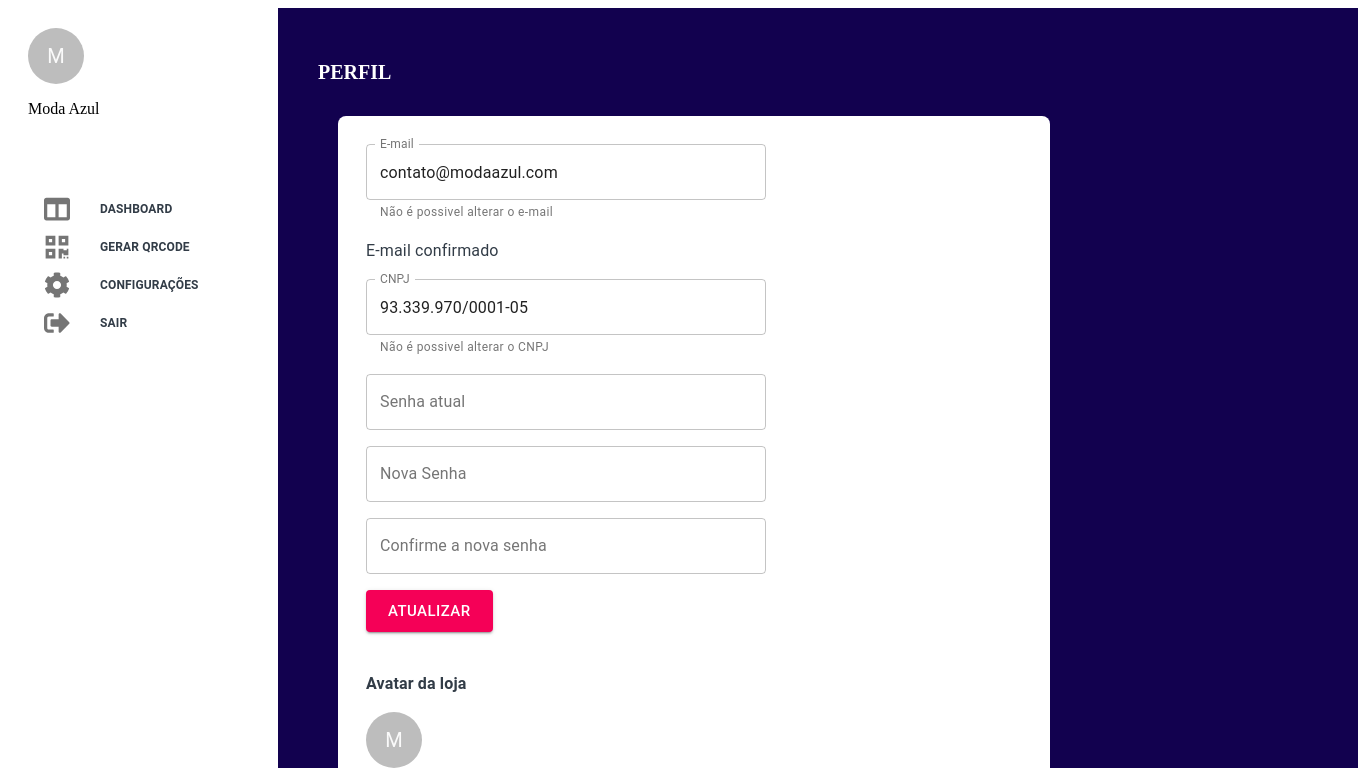
Test: Configurações do estabelecimento › senha atual errada (422): mostra a mensagem e NÃO expira a sessão
Type "errada-errada" into the password field labelled "Senha atual".
click(566, 402); type("errada-errada")  # box [366,374,766,430]
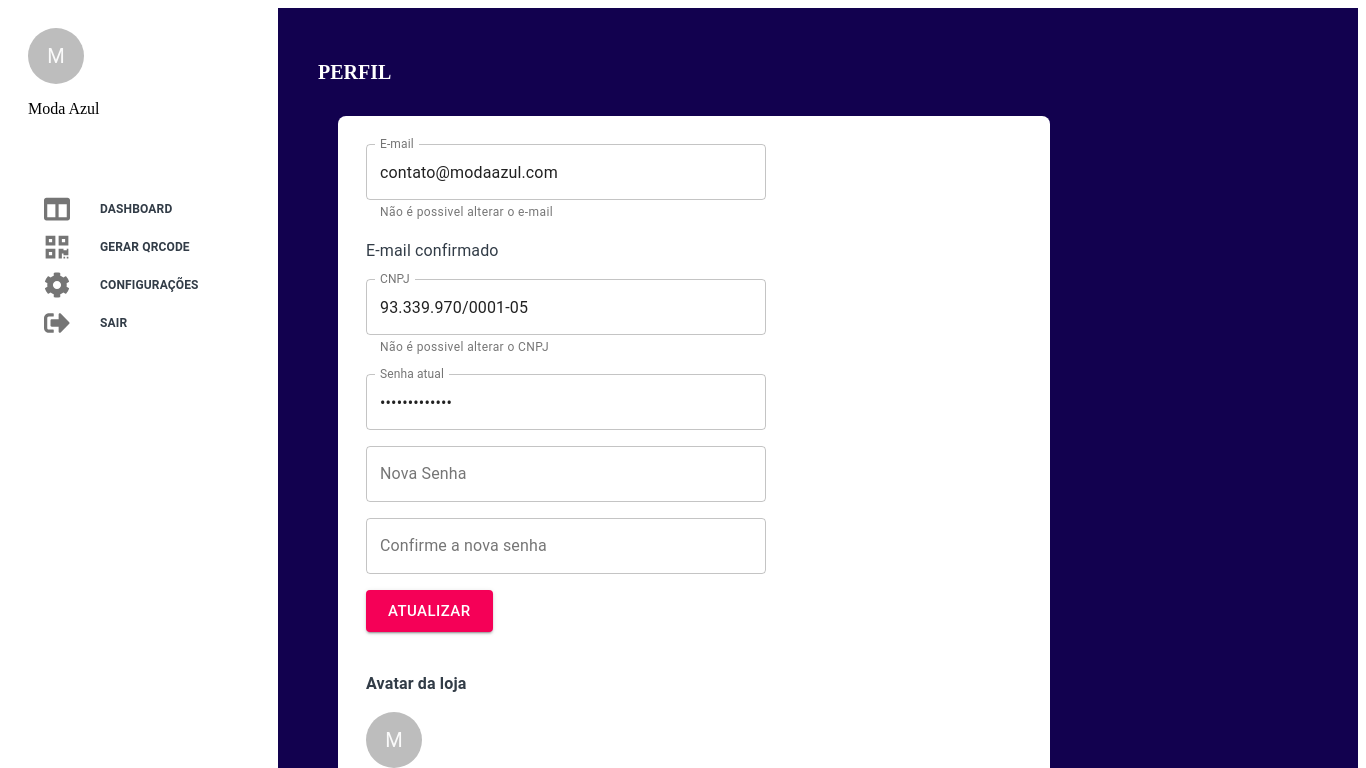
Type "senha-nova-22" into the password field labelled "Nova Senha".
click(566, 474); type("senha-nova-22")  # box [366,446,766,502]
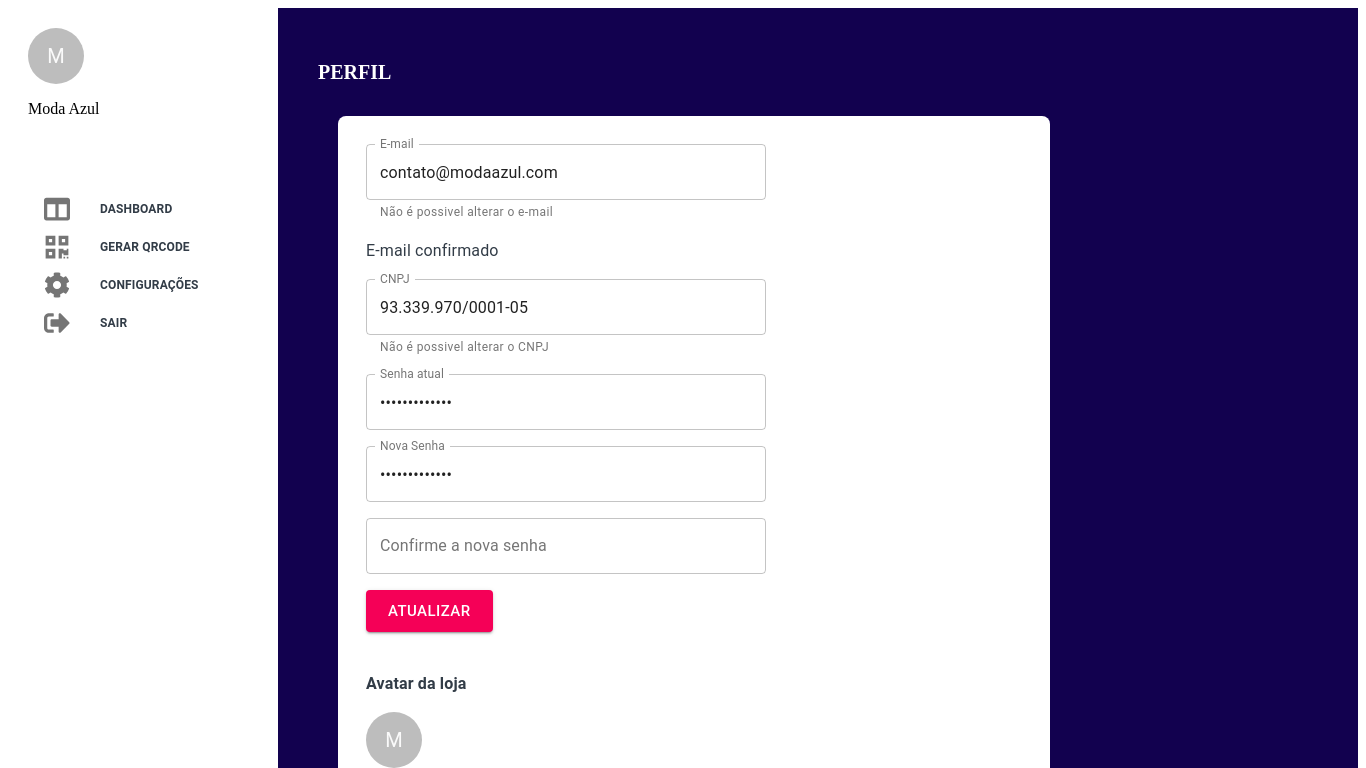
Type "senha-nova-22" into the password field labelled "Confirme a nova senha".
click(566, 546); type("senha-nova-22")  # box [366,518,766,574]
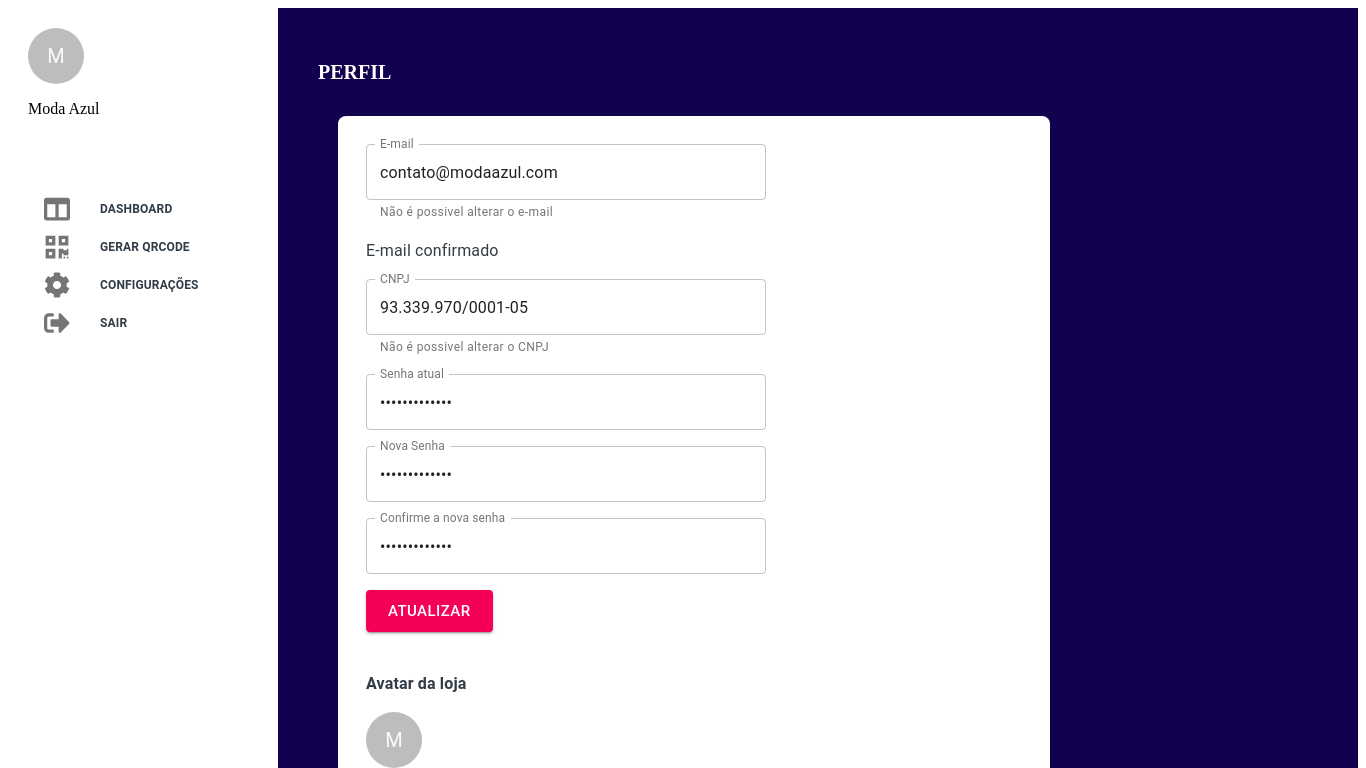
Submit the form named "Nova Senha", box [366,137,766,632]
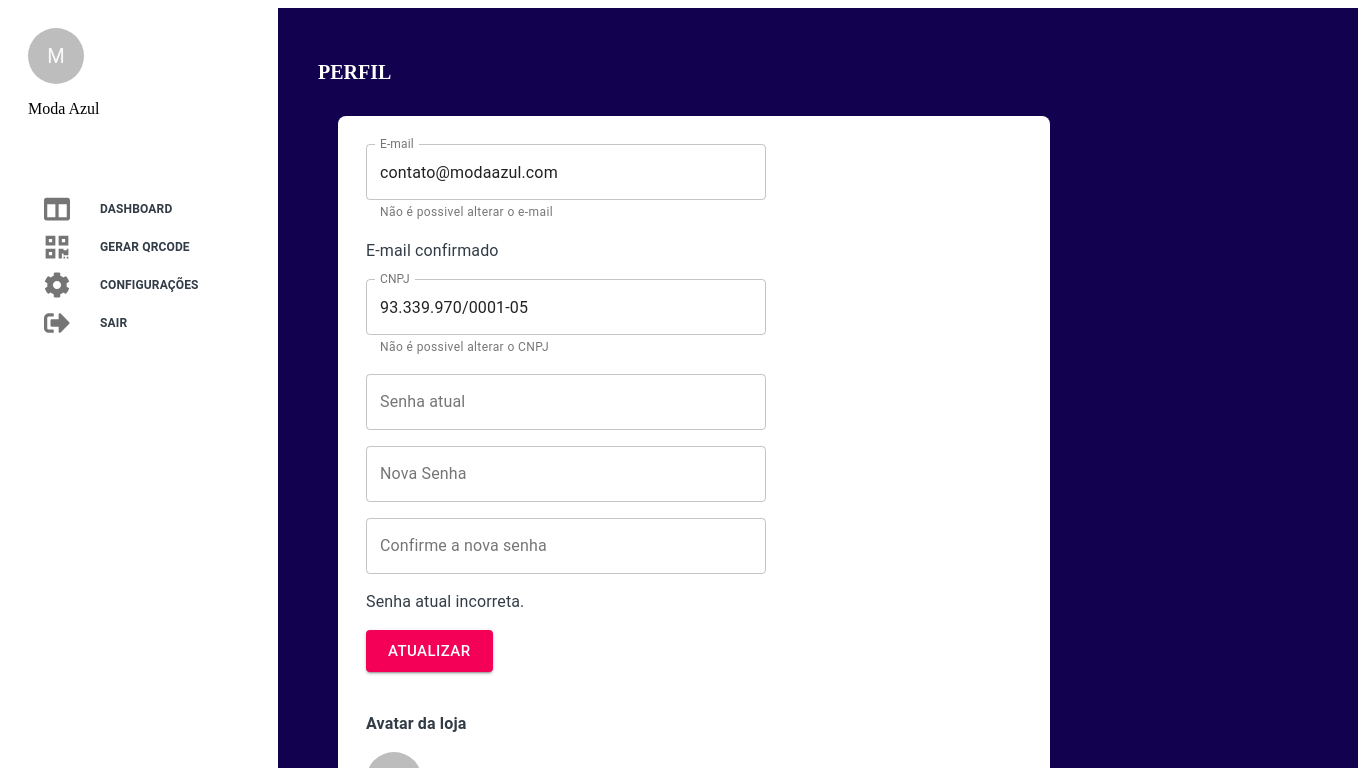
Expected: the field labelled "E-mail" holds "contato@modaazul.com", [366,144,766,200]
Result: the text "Senha atual incorreta." is shown at [366,592,524,611]
